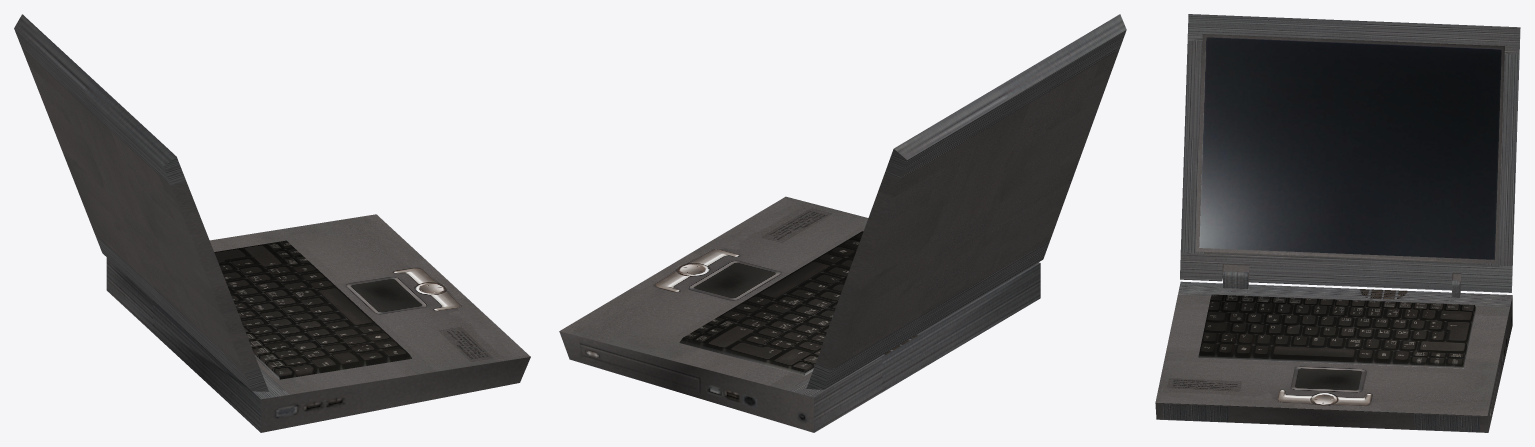
File: Laptop.fbx
The picture shows the model from 3 angles, left to right: view 1: azimuth 30°, elevation 25°; view 2: azimuth 150°, elevation 25°; view 3: azimuth 270°, elevation 25°; orthographic projection. The views are drawn at different scales.
Visible parts, largest first — view 1: laptop; view 2: laptop; view 3: laptop.
Part boxes in pixels (bbox=[...]): laptop: bbox=[14, 14, 530, 432]; laptop: bbox=[559, 14, 1126, 432]; laptop: bbox=[1155, 14, 1520, 432].
Size of the model in its own units: 57.19 by 42.54 by 53.54.
